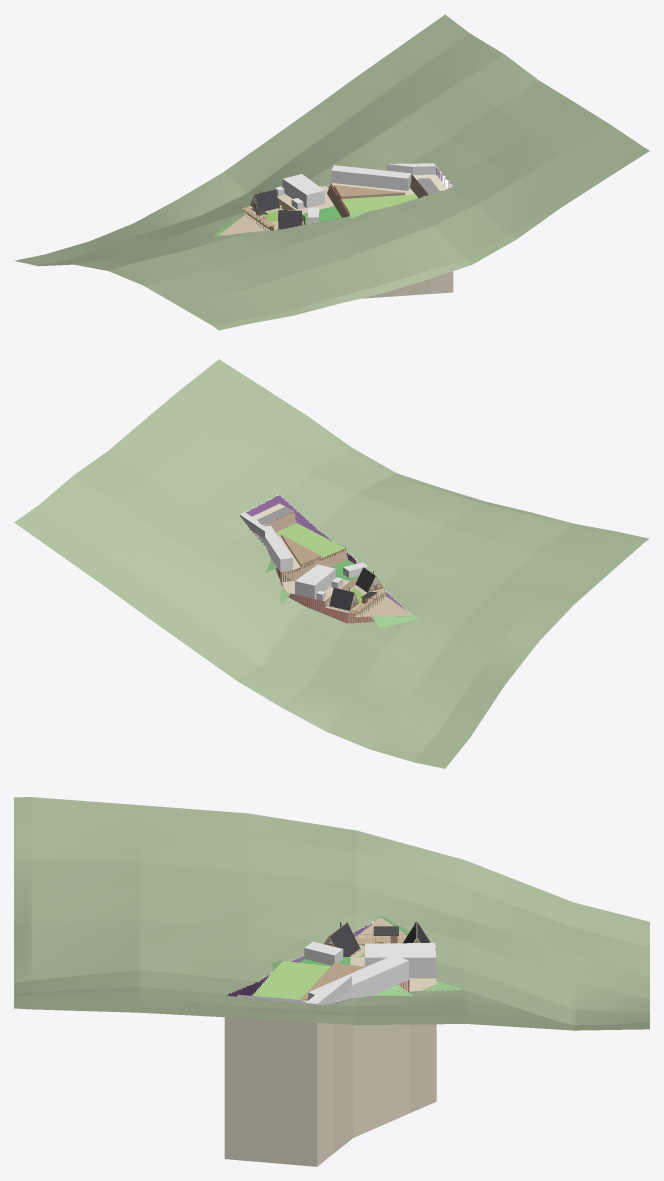
Rendered from nava_ranch_master.glb.
3 renders of one model, top to bottom at view 1: azimuth 30°, elevation 25°; view 2: azimuth 150°, elevation 25°; view 3: azimuth 270°, elevation 25°, orthographic. The views are drawn at different scales.
Parts seen in each view (by area): view 1: Terrain_outside, Mass_Multi_barn, Mass_Home, Mass_Pasture, Terrace_2, Terrace_1, Mass_Corral, Terrace_5, Mass_Reception; view 2: Terrain_outside, Mass_Pasture, Mass_Home, Mass_Multi_barn, Retaining_N, Terrace_5, Retaining_A70, Face_T2_T3; view 3: Terrain_outside, Terrace_1, Terrace_2, Terrace_3, Mass_Multi_barn, Mass_Pasture, Mass_Home, Mass_Greenhouse, Mass_Reception, Slopes_Bplus_neighbour, Mass_Corral, roof_sheet_N.
Part boxes in pixels (<box>): Terrain_outside: <box>14,14,649,330</box>; Mass_Multi_barn: <box>331,165,411,190</box>; Mass_Home: <box>282,174,324,208</box>; Mass_Pasture: <box>341,194,417,212</box>; Terrace_2: <box>331,183,430,298</box>; Terrace_1: <box>413,174,453,293</box>; Mass_Corral: <box>334,185,405,198</box>; Terrace_5: <box>219,214,269,236</box>; Mass_Reception: <box>386,163,436,174</box>; Terrain_outside: <box>14,359,649,768</box>; Mass_Pasture: <box>276,523,345,557</box>; Mass_Home: <box>295,564,335,598</box>; Mass_Multi_barn: <box>259,525,292,571</box>; Retaining_N: <box>245,495,407,611</box>; Terrace_5: <box>354,596,413,623</box>; Retaining_A70: <box>271,512,370,623</box>; Face_T2_T3: <box>281,548,348,581</box>; Terrain_outside: <box>14,797,649,1030</box>; Terrace_1: <box>224,1000,334,1166</box>; Terrace_2: <box>334,980,409,1152</box>; Terrace_3: <box>350,957,436,1113</box>; Mass_Multi_barn: <box>308,955,408,1002</box>; Mass_Pasture: <box>252,961,330,999</box>; Mass_Home: <box>364,942,436,978</box>; Mass_Greenhouse: <box>304,941,343,965</box>; Mass_Reception: <box>305,976,351,1005</box>; Slopes_Bplus_neighbour: <box>271,916,460,996</box>; Mass_Corral: <box>300,963,365,1000</box>; roof_sheet_N: <box>330,923,359,956</box>.
Bounding box in the file's own units: 220 × 77.95 × 181.
